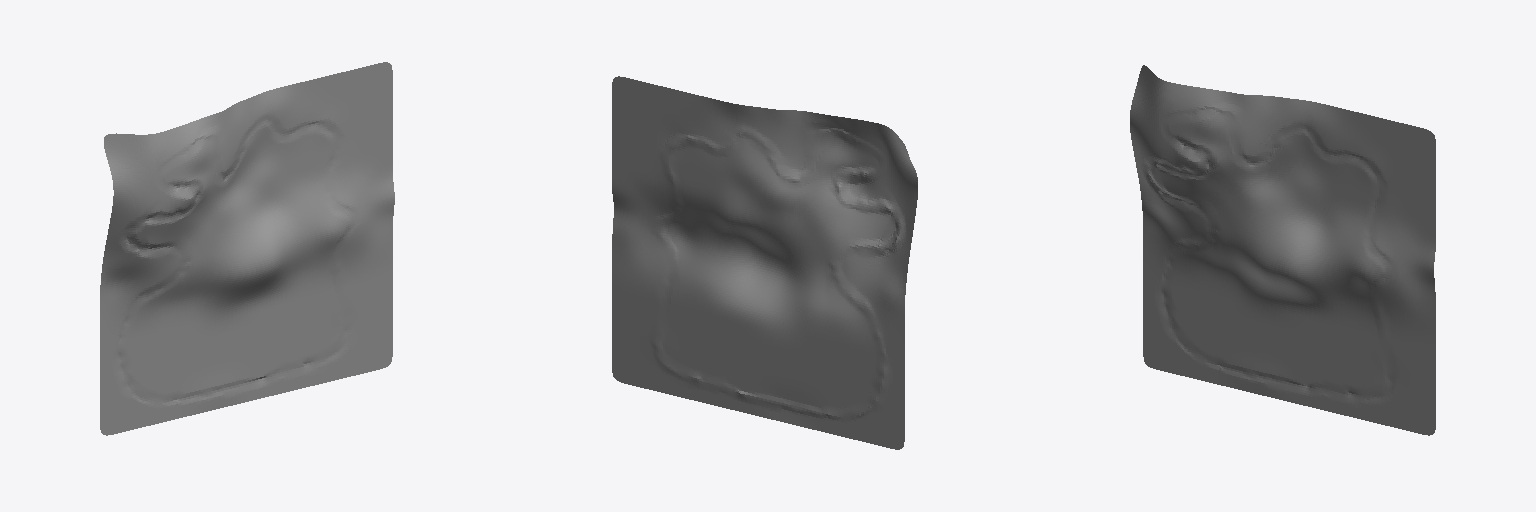
File: hill.obj
3 views of the same model, side by side, from view 1: azimuth 30°, elevation 25°; view 2: azimuth 150°, elevation 25°; view 3: azimuth 330°, elevation 25° (orthographic).
Parts seen in each view (by area): view 1: Grid; view 2: Grid; view 3: Grid.
Boxes of the visible parts, <box> form: Grid: <box>100,62,394,435</box>; Grid: <box>612,76,917,449</box>; Grid: <box>1130,65,1435,435</box>.
Size of the model in its own units: 500 by 500 by 61.84.